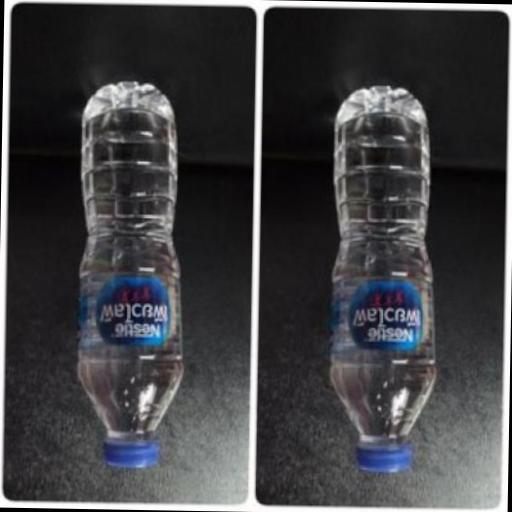Coca: (65, 74, 196, 477), (315, 80, 444, 482)
